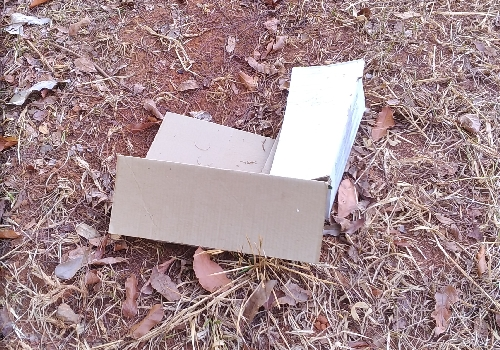trash: (107, 49, 373, 265)
